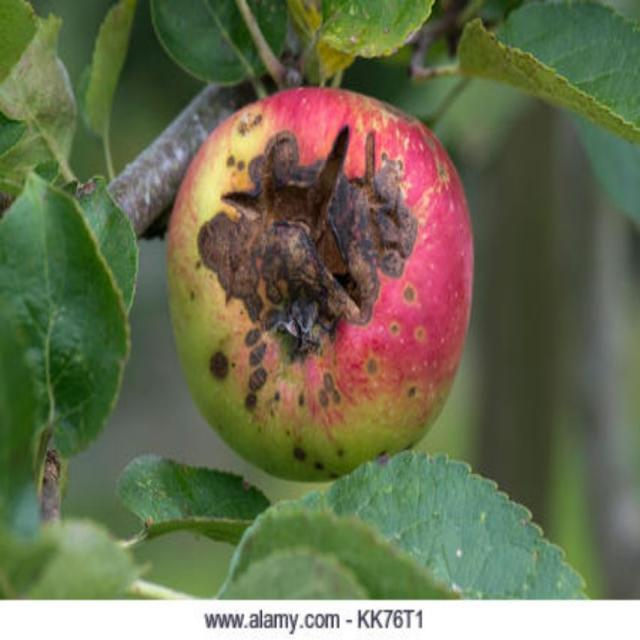Rotten Apple: (141, 62, 536, 518)
